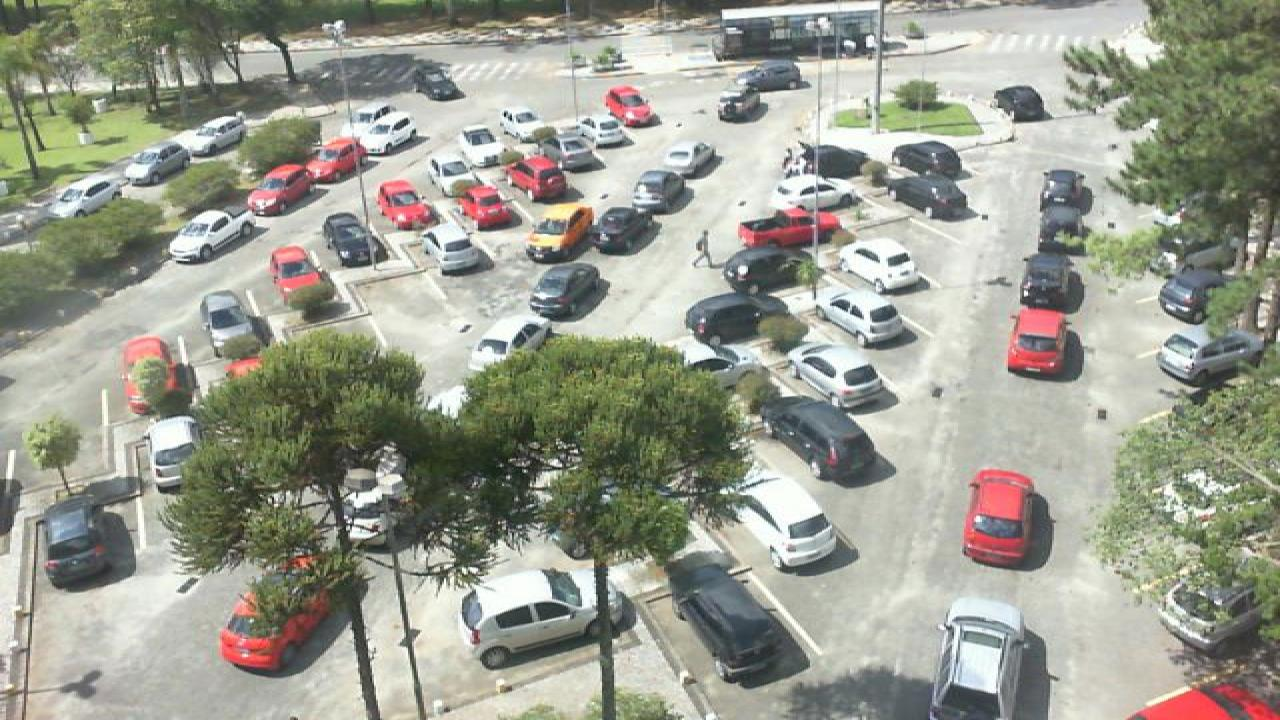Car: (454, 566, 638, 670), (666, 552, 804, 686), (924, 595, 1046, 720), (218, 558, 336, 675), (36, 476, 148, 591), (758, 394, 890, 485), (728, 466, 842, 570), (958, 467, 1052, 571), (1150, 577, 1264, 650), (1156, 323, 1262, 387), (792, 342, 894, 408), (684, 289, 792, 347), (1004, 306, 1084, 380), (162, 208, 260, 266), (118, 333, 186, 415), (834, 237, 932, 292), (820, 288, 912, 346), (526, 261, 610, 322), (718, 245, 822, 294), (470, 318, 556, 374), (734, 207, 842, 251), (146, 416, 206, 493), (38, 172, 132, 221), (524, 202, 598, 264), (1016, 252, 1086, 315), (886, 173, 978, 219), (1156, 269, 1228, 326), (196, 290, 260, 354), (320, 212, 390, 270), (416, 228, 494, 278), (246, 163, 316, 218), (268, 245, 332, 304), (122, 138, 198, 186), (594, 204, 662, 256), (680, 337, 752, 386), (376, 180, 440, 233), (504, 154, 570, 203), (770, 176, 858, 212), (180, 114, 250, 158), (628, 168, 690, 217), (456, 180, 520, 227), (354, 110, 422, 153), (892, 140, 968, 178), (544, 126, 608, 171), (306, 136, 366, 182), (1036, 207, 1096, 253), (600, 84, 662, 128), (796, 144, 870, 179), (1038, 168, 1092, 214), (992, 83, 1048, 123), (454, 125, 508, 166), (408, 63, 466, 101), (496, 109, 554, 146), (716, 84, 768, 125), (662, 140, 720, 176), (738, 60, 804, 91)
